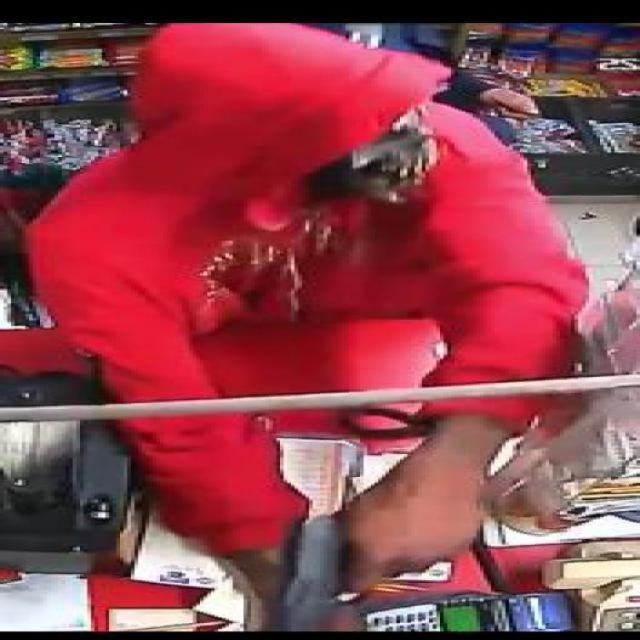pistol: (272, 512, 483, 634)
